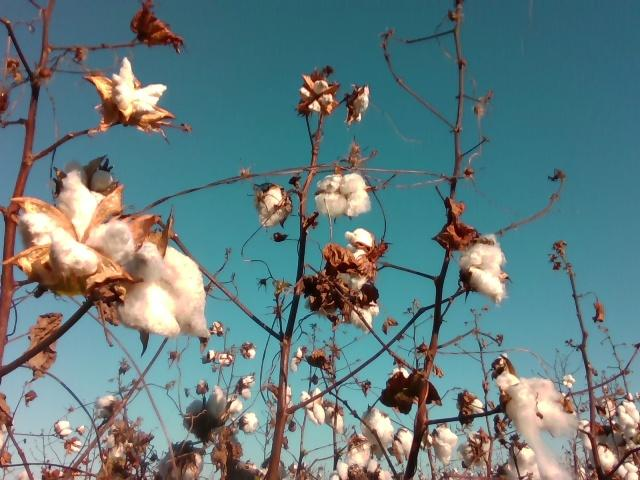cotton_ready: (18, 168, 136, 287), (112, 240, 212, 340), (497, 374, 574, 480), (110, 57, 168, 118), (459, 234, 506, 304), (584, 431, 638, 480), (314, 174, 372, 217), (339, 228, 373, 287), (64, 161, 117, 196), (297, 81, 336, 116), (259, 188, 288, 229), (348, 292, 379, 330), (432, 425, 459, 467), (364, 411, 393, 450), (211, 389, 243, 424), (350, 84, 370, 121), (617, 400, 640, 431)
